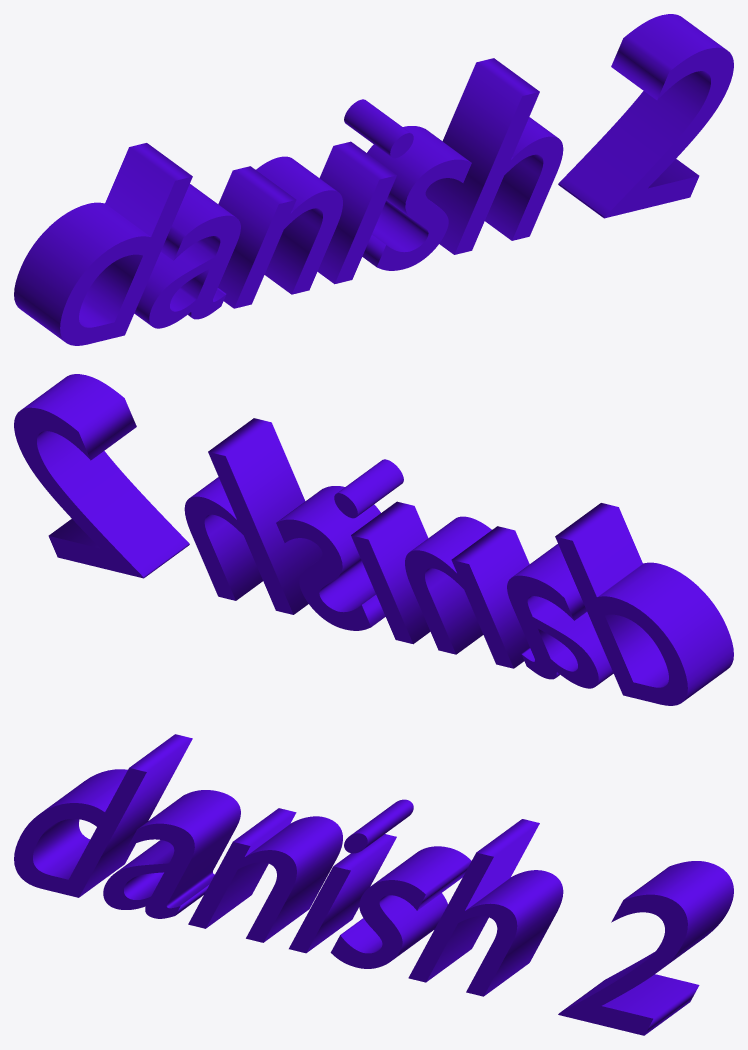
3 renders of one model, top to bottom at view 1: azimuth 30°, elevation 25°; view 2: azimuth 150°, elevation 25°; view 3: azimuth 330°, elevation 25°, orthographic.
Visible parts, largest first — view 1: danish 2; view 2: danish 2; view 3: danish 2.
Boxes of the visible parts, x1,y1,x2,y2 form: danish 2: (14, 14, 733, 345); danish 2: (14, 374, 733, 705); danish 2: (14, 734, 733, 1035).
Bounding box in the file's own units: 8.45 × 1.75 × 1.
